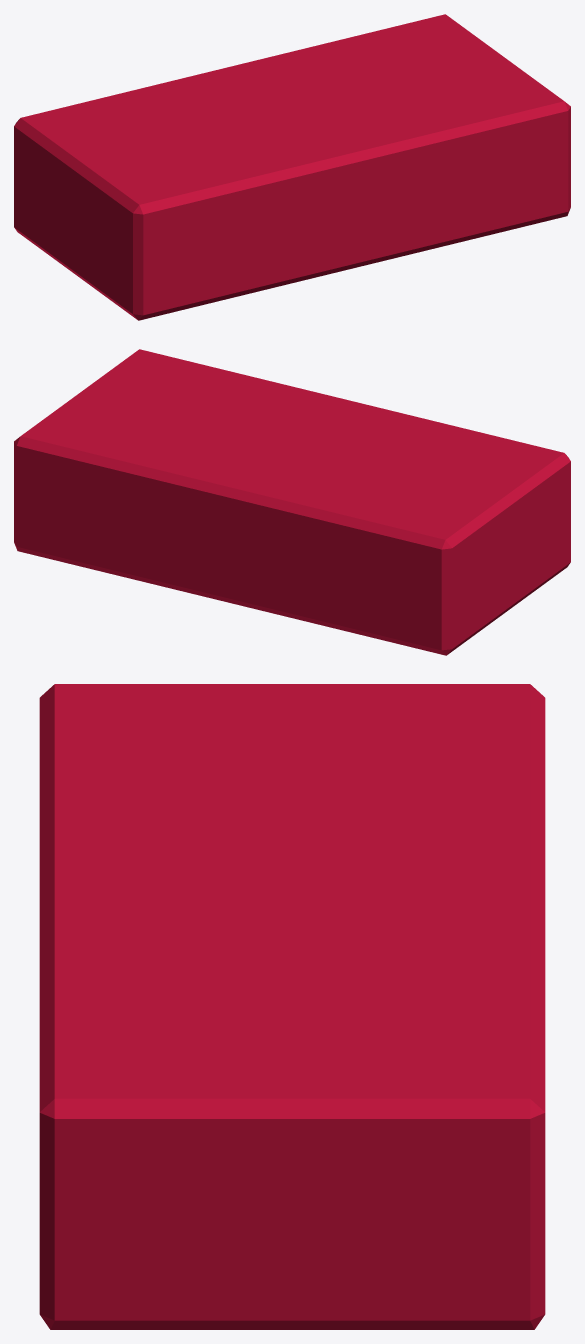
The model's file is Part_2X1_low_simple.FBX.
3 renders of one model, top to bottom at view 1: azimuth 30°, elevation 25°; view 2: azimuth 150°, elevation 25°; view 3: azimuth 270°, elevation 25°, orthographic. The views are drawn at different scales.
Visible parts, largest first — view 1: Part_2X1_low_simple; view 2: Part_2X1_low_simple; view 3: Part_2X1_low_simple.
Part boxes in pixels (<box>): Part_2X1_low_simple: <box>14,14,570,320</box>; Part_2X1_low_simple: <box>14,349,570,655</box>; Part_2X1_low_simple: <box>39,684,545,1329</box>.
Bounding box in the file's own units: 200 × 100 × 50.
